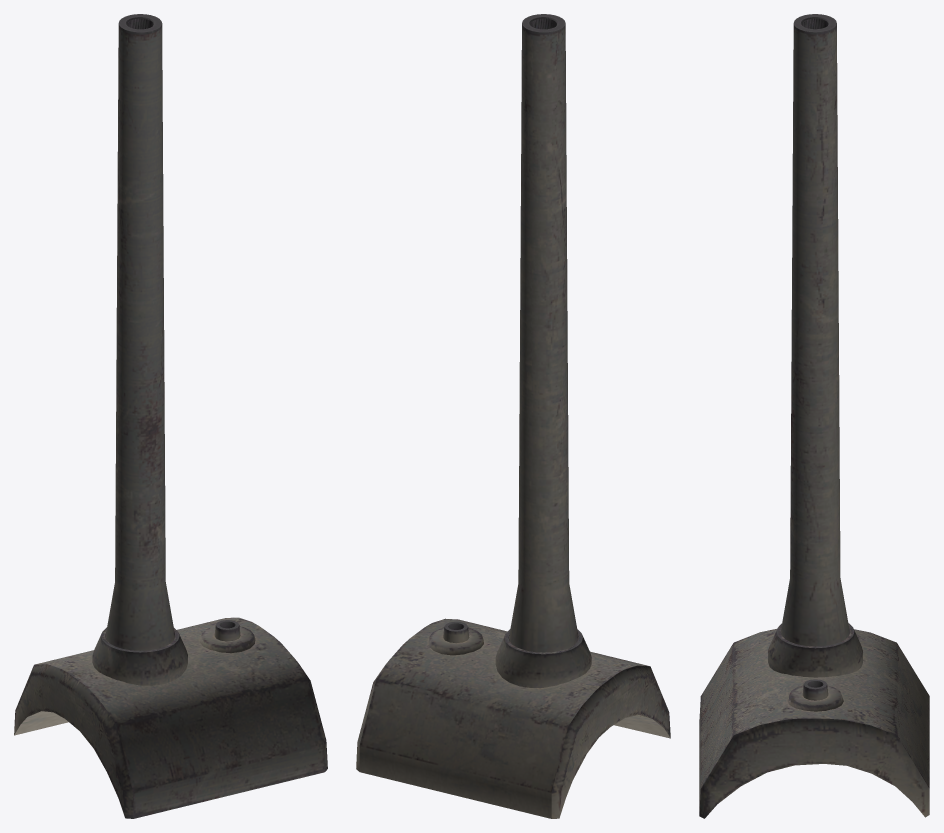
File: Gun_02.glb
3 views of the same model, side by side, from view 1: azimuth 30°, elevation 25°; view 2: azimuth 150°, elevation 25°; view 3: azimuth 270°, elevation 25° (orthographic).
Parts seen in each view (by area): view 1: set_0_group_0; view 2: set_0_group_0; view 3: set_0_group_0.
Boxes of the visible parts, left/top/right/bottom form: set_0_group_0: left=14, top=14, right=327, bottom=818; set_0_group_0: left=356, top=14, right=670, bottom=818; set_0_group_0: left=699, top=14, right=929, bottom=818.
Bounding box in the file's own units: 1.13 × 3.91 × 1.12.
1 material, 1 textured.
